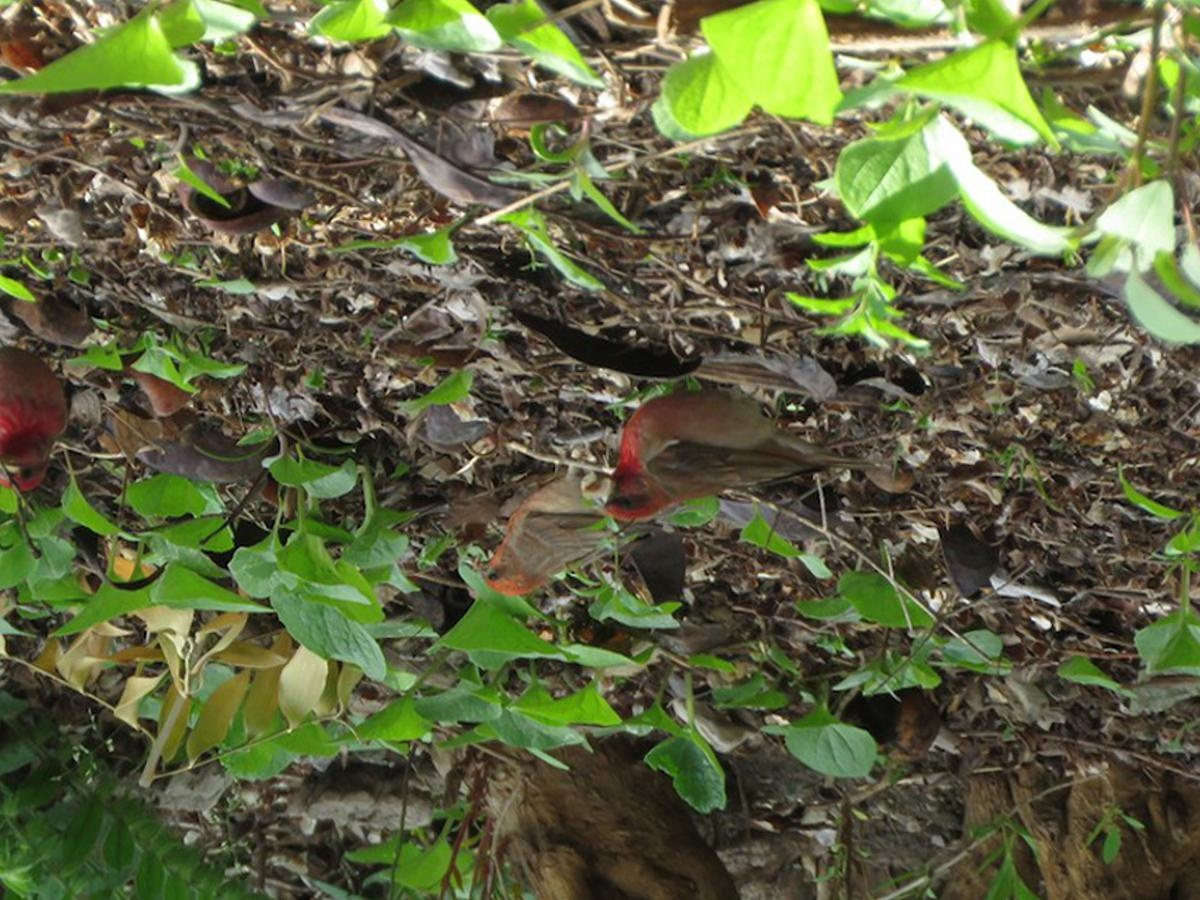rosefinch: (580, 385, 846, 531)
